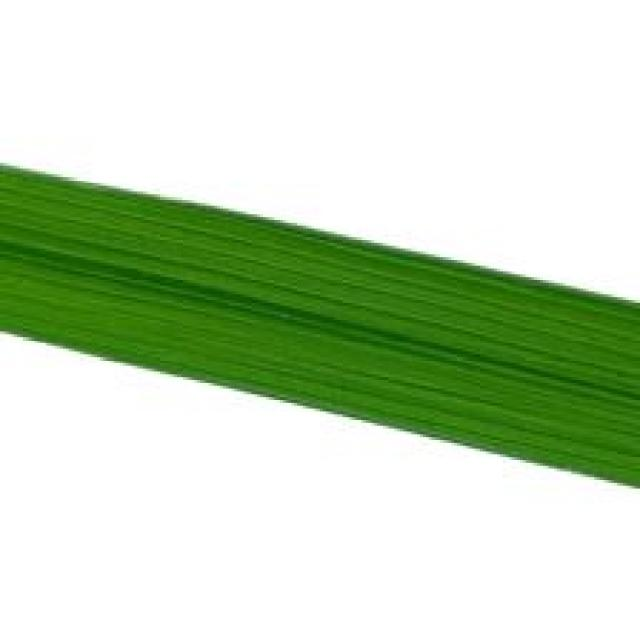Rice___Healthy_Rice_Plant: (0, 160, 637, 491)
